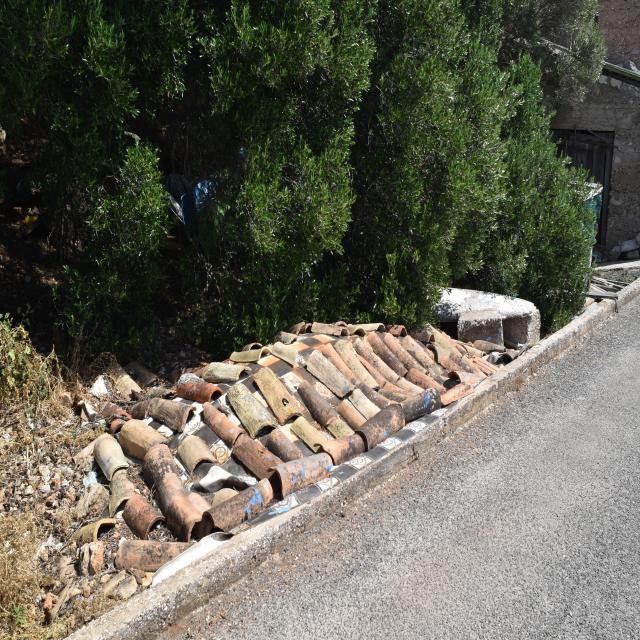entulho: (82, 312, 490, 574), (472, 338, 522, 369)
